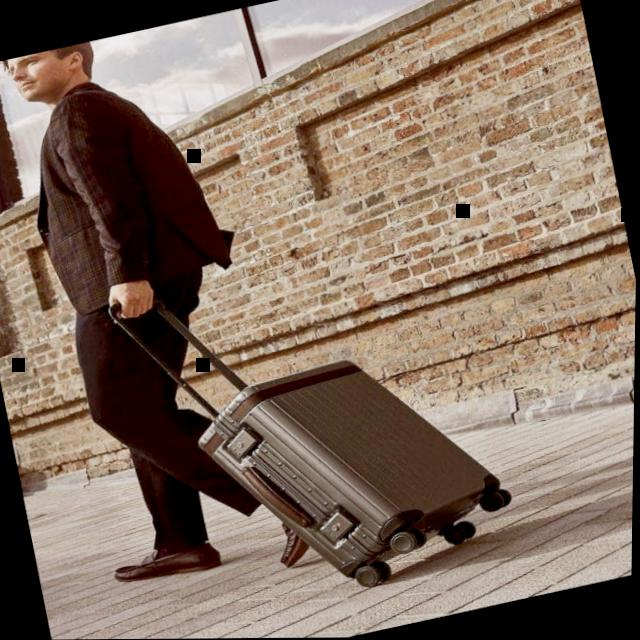luggage: (182, 325, 520, 608)
